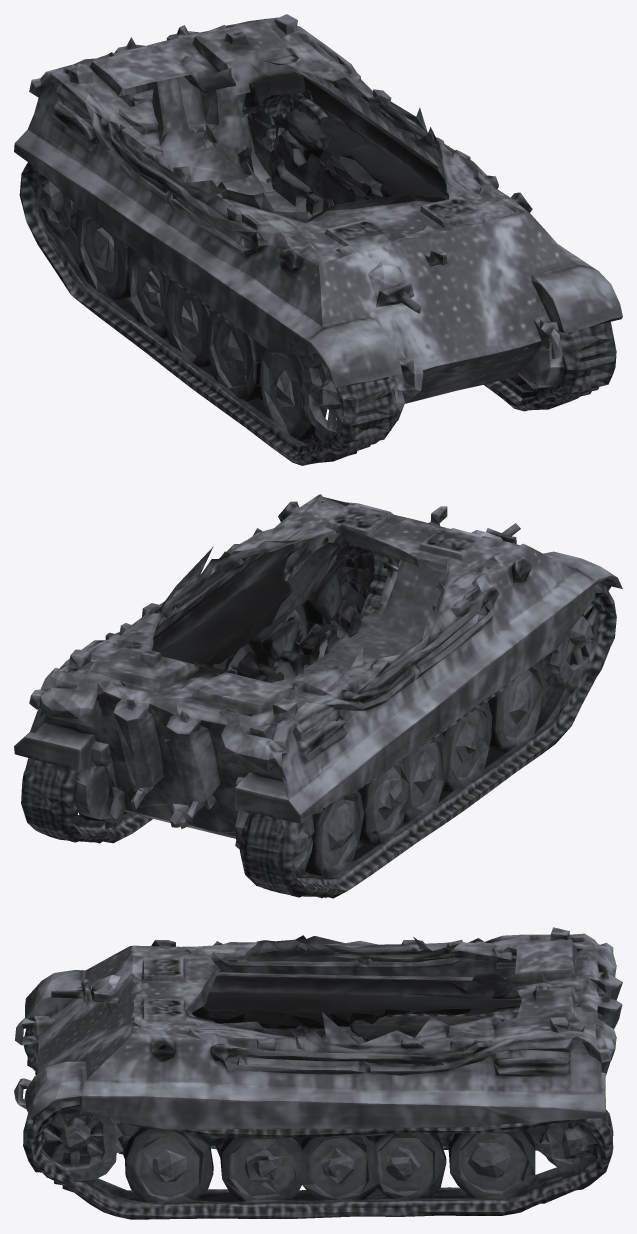
File: kingtiger_hull.obj
3 renders of one model, top to bottom at view 1: azimuth 30°, elevation 25°; view 2: azimuth 150°, elevation 25°; view 3: azimuth 270°, elevation 25°, orthographic. The views are drawn at different scales.
Parts seen in each view (by area): view 1: kingtiger_hull; view 2: kingtiger_hull; view 3: kingtiger_hull.
Part boxes in pixels (x1,y1,x2,y2): kingtiger_hull: (14, 14, 622, 465); kingtiger_hull: (14, 494, 622, 898); kingtiger_hull: (14, 927, 622, 1219).
Size of the model in its own units: 3.28 by 2.38 by 6.7.
1 material, 1 textured.
